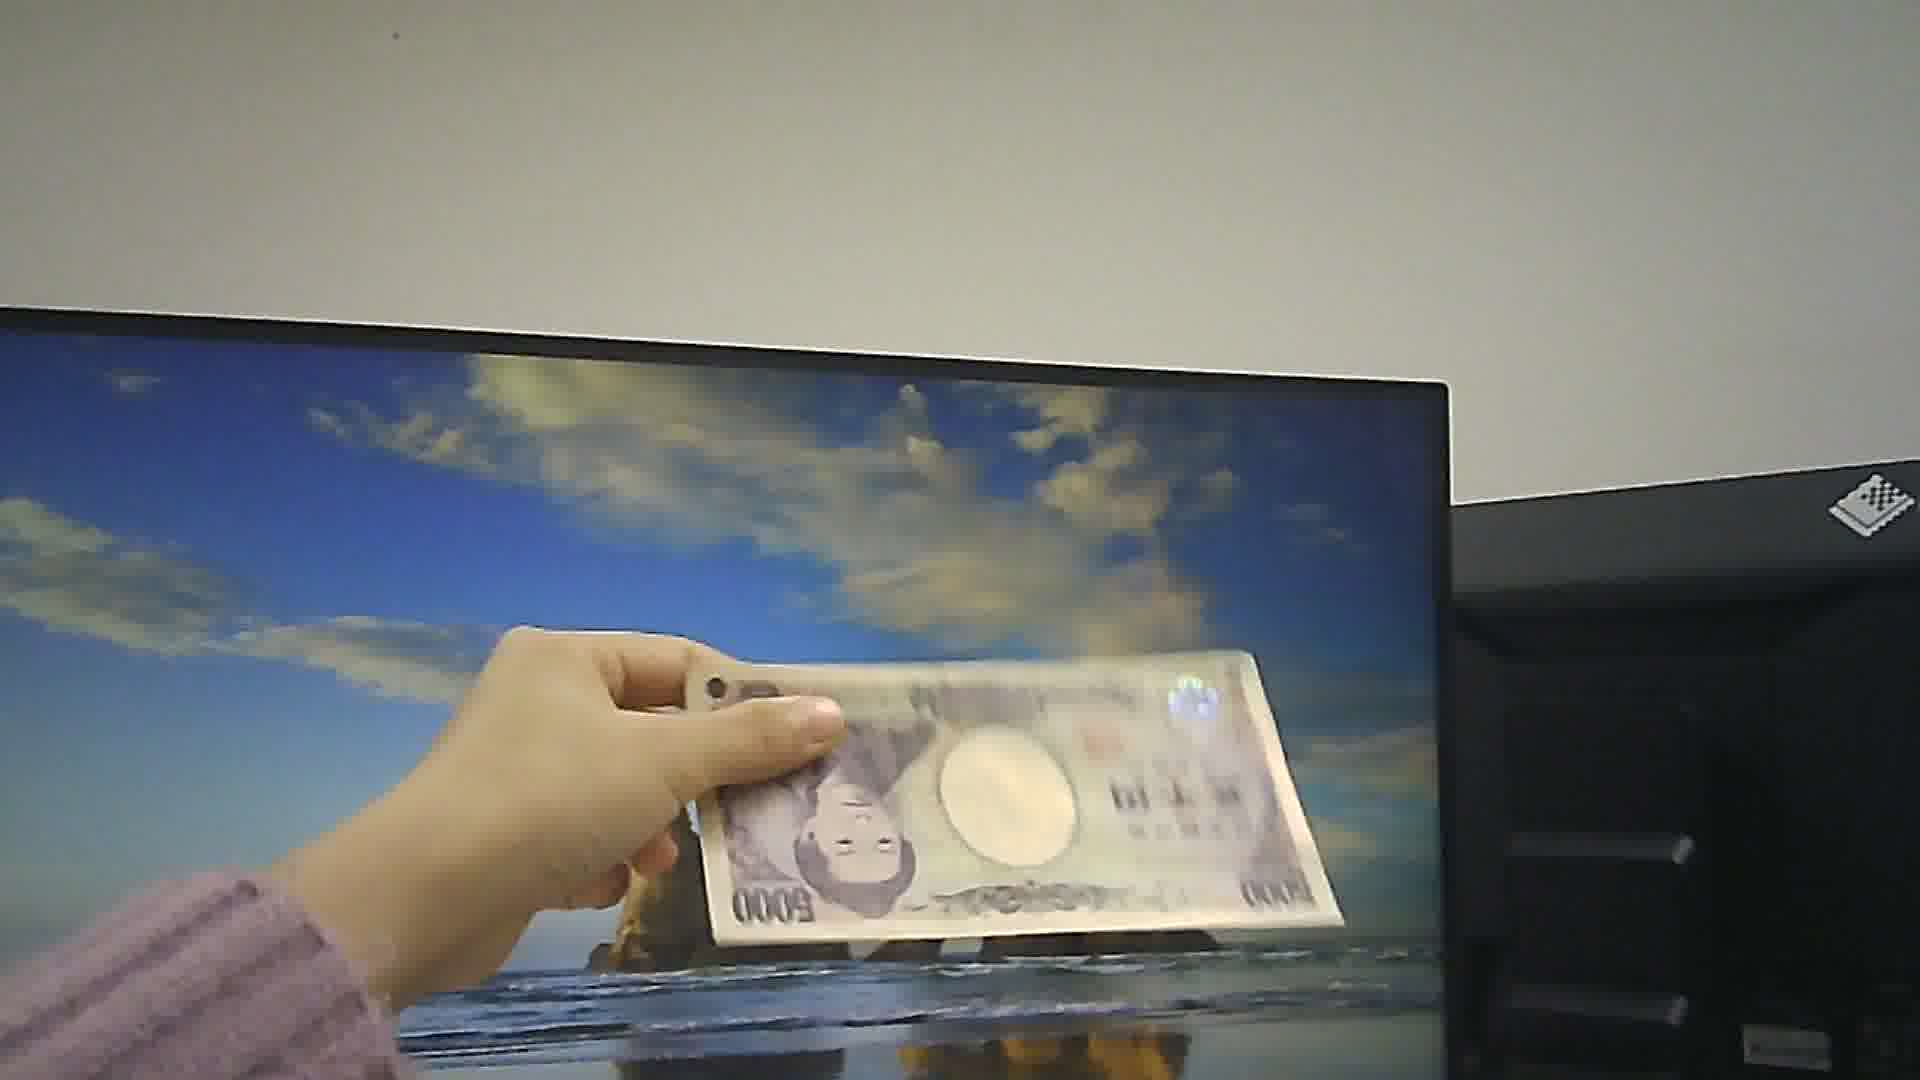5,000 Yen: (684, 647, 1354, 952)
